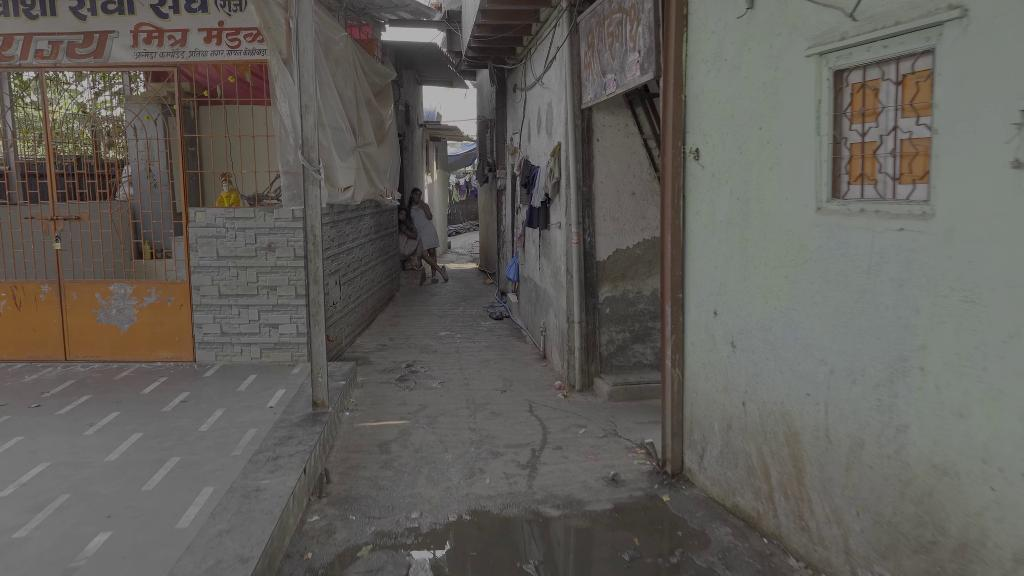garbage: (506, 249, 522, 284)
